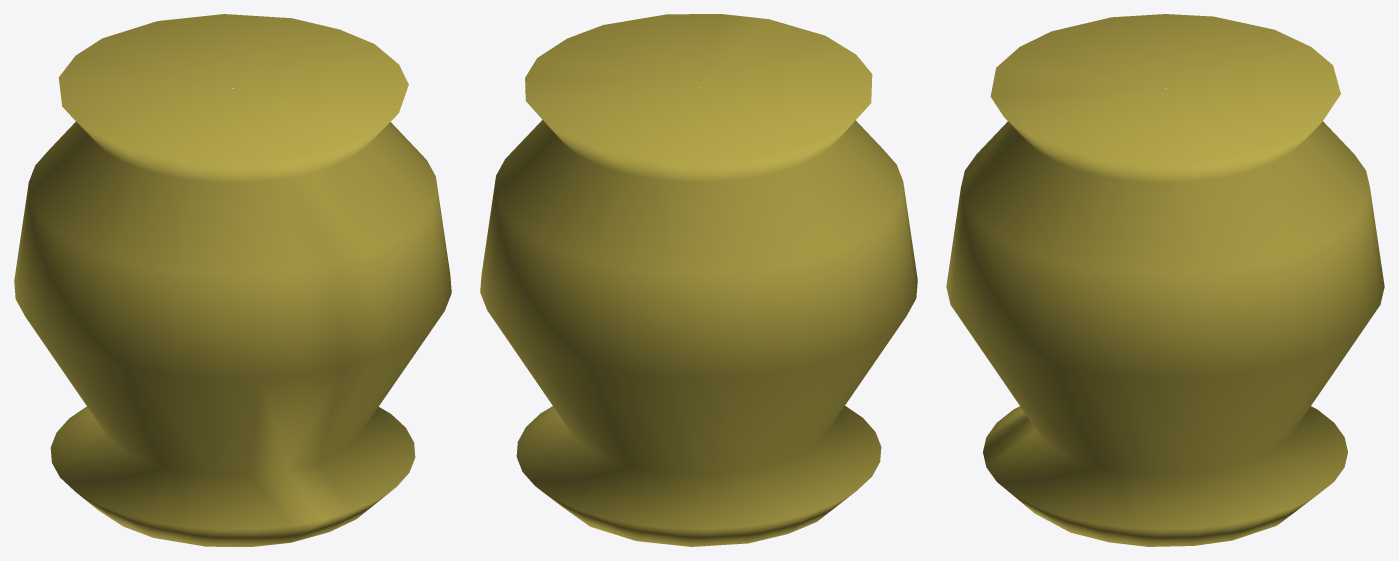
The model's file is lu_huong_tram.glb.
3 renders of one model, left to right at view 1: azimuth 30°, elevation 25°; view 2: azimuth 150°, elevation 25°; view 3: azimuth 270°, elevation 25°, orthographic.
Visible parts, largest first — view 1: Mesh_0; view 2: Mesh_0; view 3: Mesh_0.
Boxes of the visible parts, x1,y1,x2,y2 form: Mesh_0: (14,14,451,546); Mesh_0: (480,14,917,546); Mesh_0: (946,14,1384,546).
Size of the model in its own units: 0.6 by 0.6 by 0.6.
